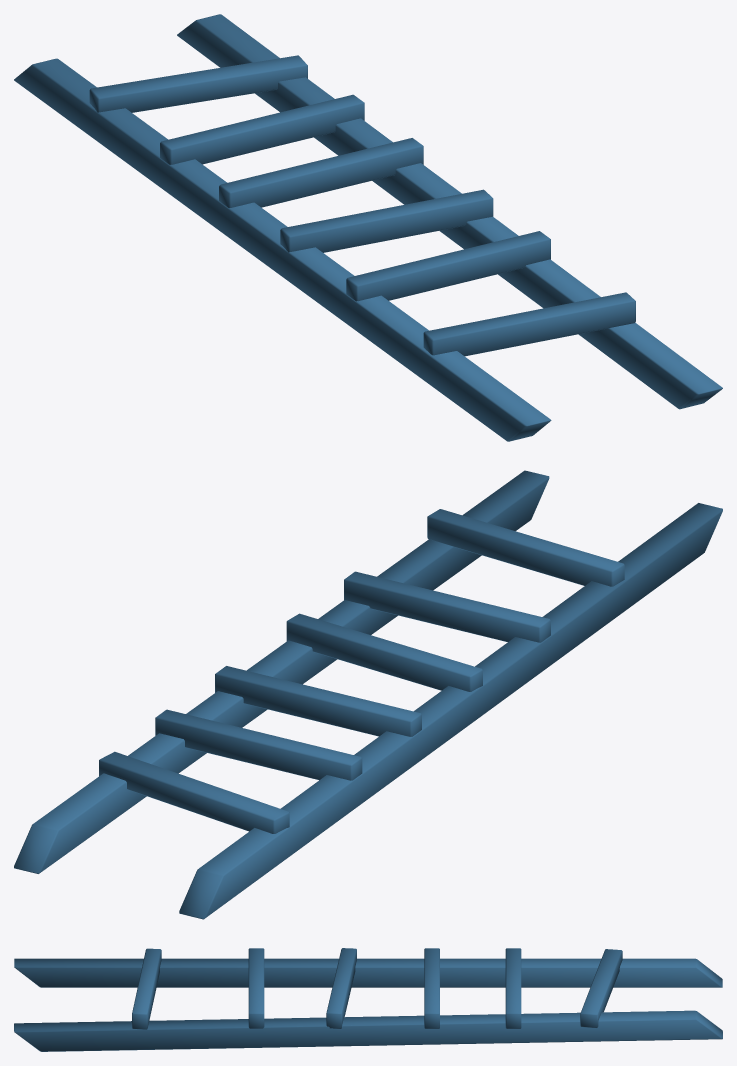
The model's file is staircase1.fbx.
The picture shows the model from 3 angles, top to bottom: view 1: azimuth 30°, elevation 25°; view 2: azimuth 150°, elevation 25°; view 3: azimuth 270°, elevation 25°; orthographic projection. The views are drawn at different scales.
Visible parts, largest first — view 1: ladder; view 2: ladder; view 3: ladder.
Part boxes in pixels (x1=…): ladder: x1=14, y1=14, x2=722, y2=441; ladder: x1=14, y1=470, x2=722, y2=919; ladder: x1=14, y1=948, x2=722, y2=1051.
Bounding box in the file's own units: 549 × 147 × 2461.
